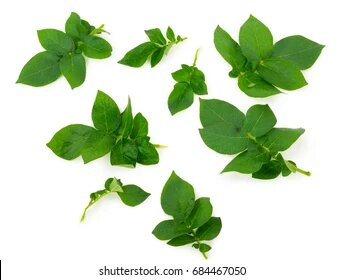potato_leaf: (210, 15, 326, 98), (199, 98, 313, 180), (46, 90, 162, 169), (16, 11, 113, 87), (153, 170, 224, 258), (118, 25, 189, 68), (168, 64, 209, 116)
